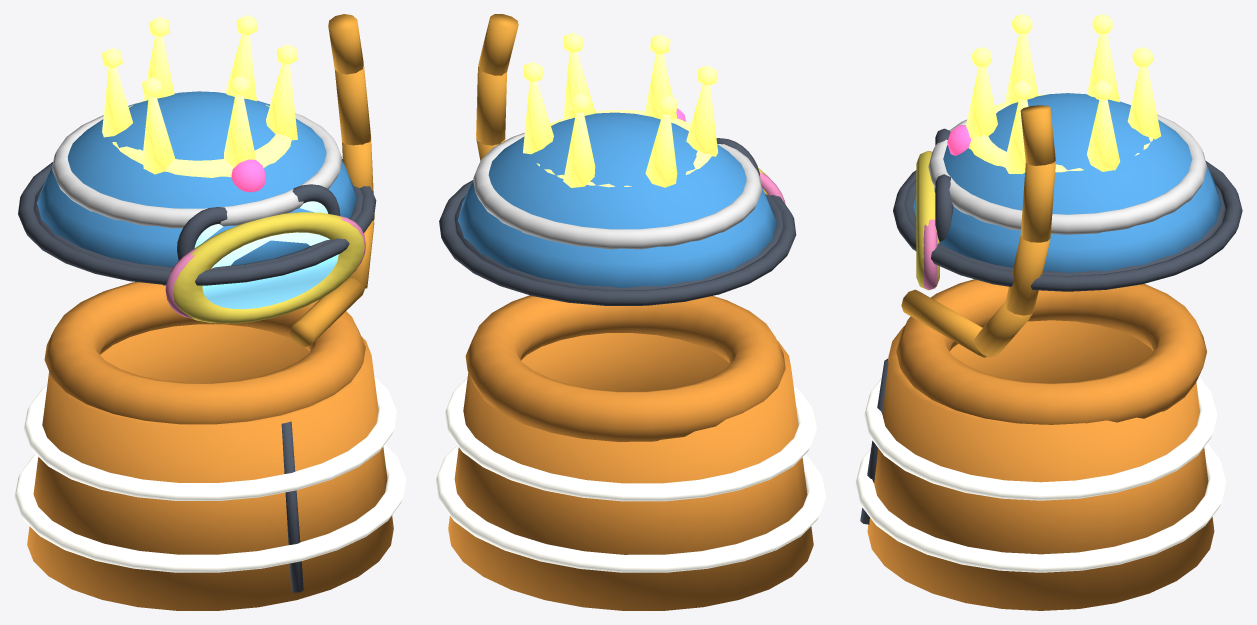
The model's file is gear.glb.
3 renders of one model, left to right at view 1: azimuth 30°, elevation 25°; view 2: azimuth 150°, elevation 25°; view 3: azimuth 270°, elevation 25°, orthographic.
Visible parts, largest first — view 1: vest, cap, snorkel, crown, shades; view 2: vest, cap, crown, snorkel; view 3: vest, cap, snorkel, crown, shades.
Boxes of the visible parts, x1,y1,x2,y2 form: vest: (14, 282, 406, 610); cap: (18, 91, 376, 285); snorkel: (33, 14, 374, 346); crown: (102, 15, 297, 192); shades: (162, 215, 365, 318); vest: (435, 295, 826, 610); cap: (439, 112, 796, 305); crown: (523, 32, 717, 187); snorkel: (454, 14, 783, 290); vest: (855, 279, 1226, 610); cap: (893, 93, 1242, 291); snorkel: (901, 105, 1225, 357); crown: (947, 14, 1160, 173); shades: (923, 151, 937, 289).
Size of the model in its own units: 0.7484 by 1.01 by 0.7219.
